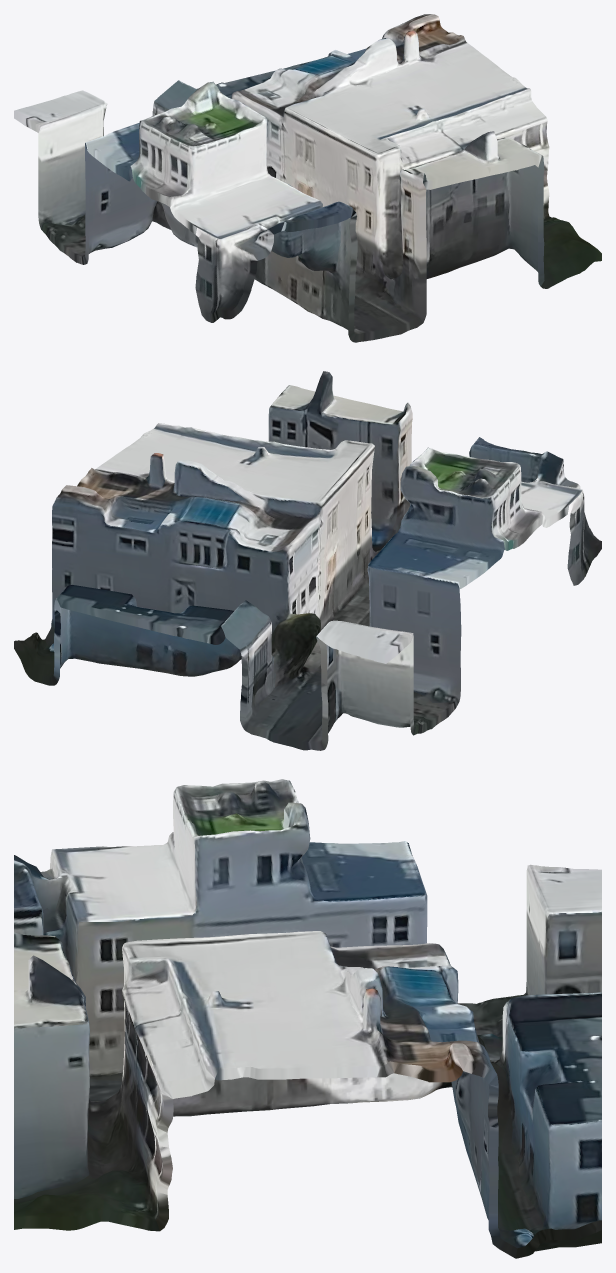
File: z20-167747-405193-h0-yup-uvflip-v3-world.glb
The picture shows the model from 3 angles, top to bottom: view 1: azimuth 30°, elevation 25°; view 2: azimuth 150°, elevation 25°; view 3: azimuth 270°, elevation 25°; orthographic projection. The views are drawn at different scales.
Bounding box in the file's own units: 30.16 × 15.72 × 30.32.
Materials: 1 (1 with a texture image).
